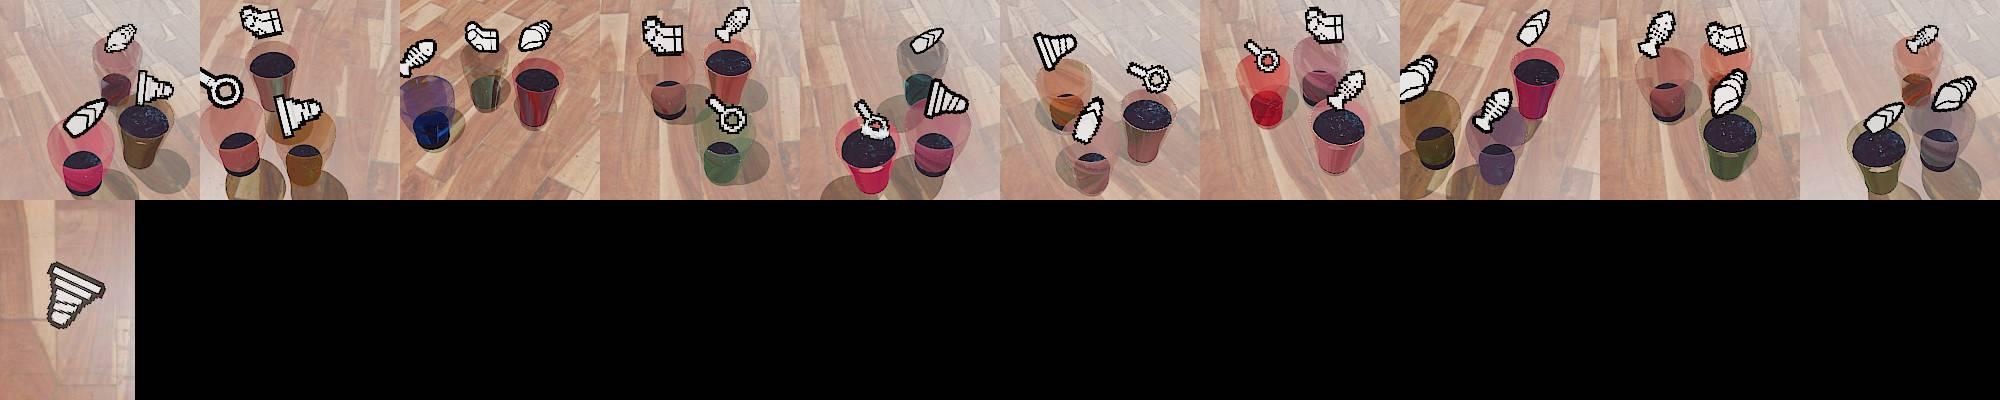icon: (45, 261, 106, 329), (273, 93, 325, 139), (1705, 68, 1749, 121), (1635, 9, 1676, 62), (923, 76, 971, 120), (62, 96, 108, 139), (1471, 87, 1513, 134), (200, 68, 246, 110), (705, 93, 749, 136), (852, 98, 894, 143), (640, 15, 685, 56), (1932, 74, 1980, 112), (1069, 94, 1105, 144), (1033, 31, 1077, 71), (135, 69, 179, 108), (1328, 69, 1366, 112), (239, 4, 284, 39), (1305, 5, 1346, 45), (1862, 98, 1906, 135), (1126, 60, 1171, 96), (1244, 37, 1282, 76), (399, 37, 435, 79), (1705, 20, 1746, 56), (713, 5, 750, 43), (1399, 61, 1432, 102), (1517, 8, 1550, 47), (464, 20, 501, 54), (518, 19, 552, 54), (909, 25, 946, 55), (105, 23, 138, 54), (1907, 23, 1939, 52)
